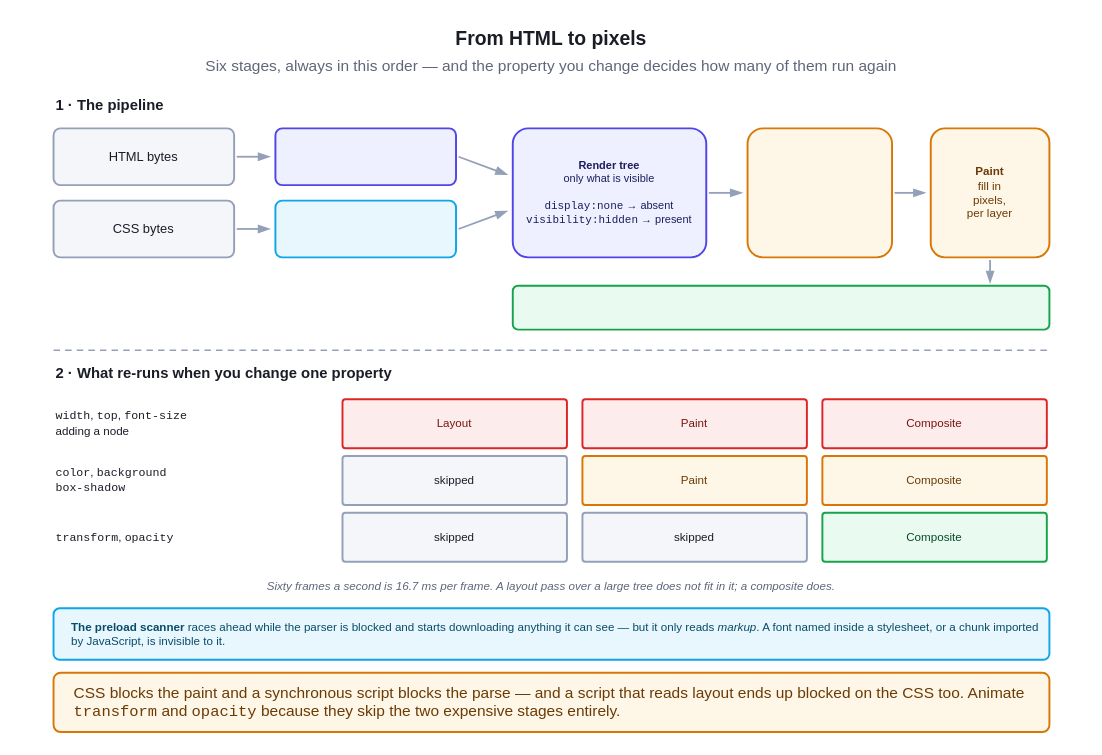
This 1102x755 diagram has some shape labels left out. Here are the shapes that lost their labels. From the top down, the centre of each, then its label:
At point (365, 156): "DOM tree of nodes".
At point (819, 192): "Layout geometry in real pixels % → px".
At point (365, 228): "CSSOM tree of styles".
At point (780, 307): "Composite — assemble the layers, on the GPU where it can".
